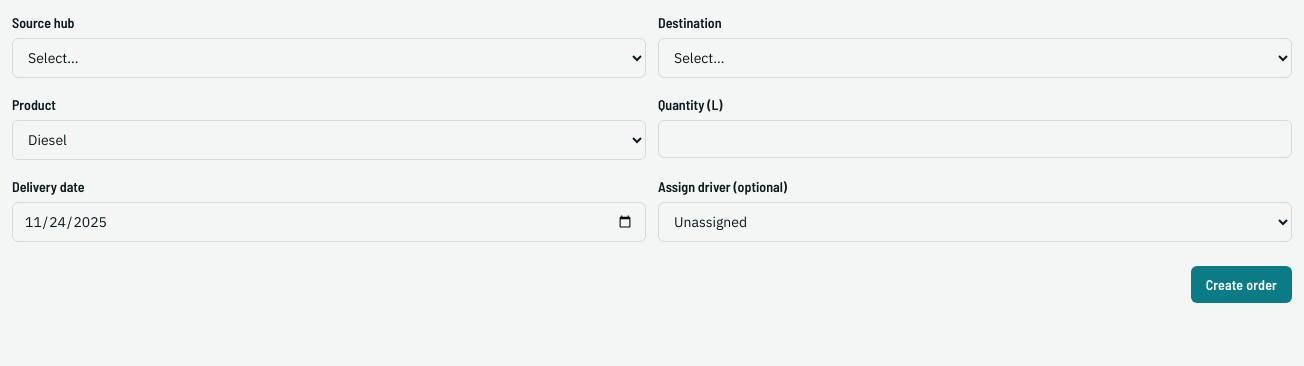
Test: OrderForm › shows required-field errors for source, destination and quantity
Click the button "Create order".
click(1241, 284)  # box top-left (1191, 266), bottom-right (1292, 303)
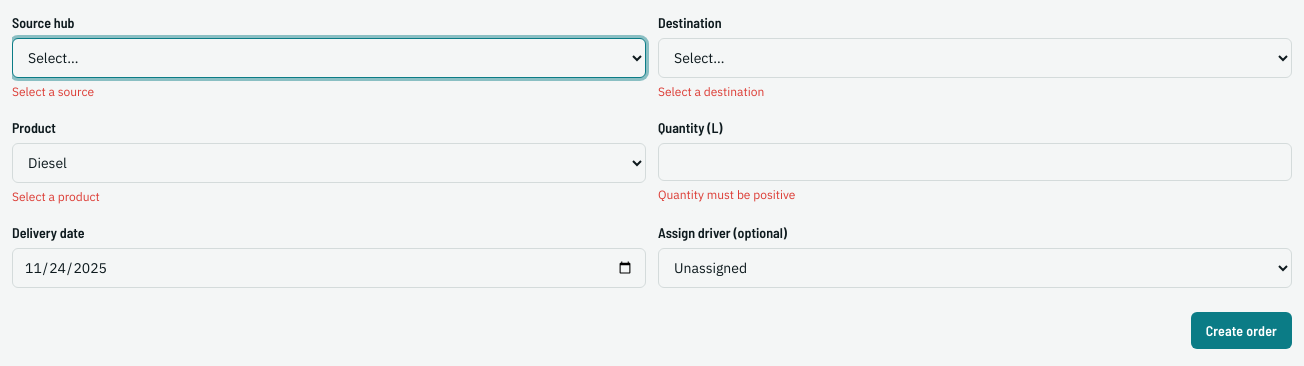
Expected: the text "Select a source" is shown, top-left (12, 84), bottom-right (94, 99)
Expected: the text "Select a destination" is shown, top-left (658, 84), bottom-right (764, 99)
Expected: the text "Quantity must be positive" is shown, top-left (658, 187), bottom-right (795, 202)
